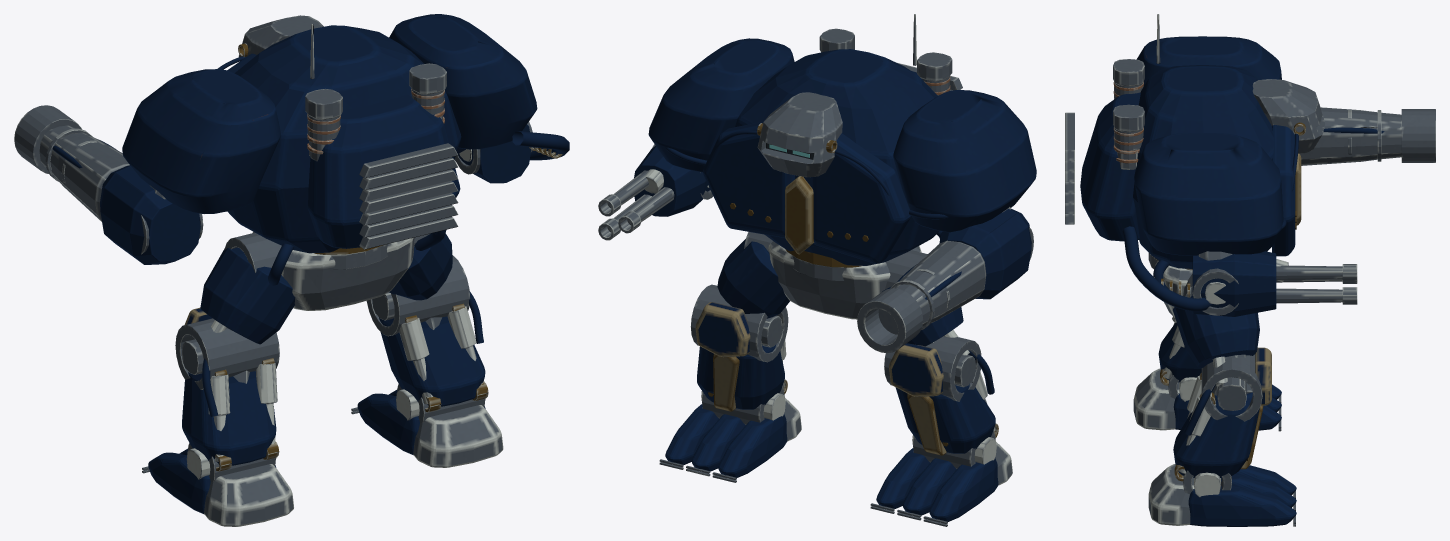
Rendered from heavy_walker.glb.
The picture shows the model from 3 angles, left to right: view 1: azimuth 30°, elevation 25°; view 2: azimuth 150°, elevation 25°; view 3: azimuth 270°, elevation 25°; orthographic projection. The views are drawn at different scales.
Parts seen in each view (by area): view 1: GT_heavy_walker; view 2: GT_heavy_walker; view 3: GT_heavy_walker.
Boxes of the visible parts, bbox=[...] form: GT_heavy_walker: bbox=[14, 14, 569, 526]; GT_heavy_walker: bbox=[598, 14, 1036, 526]; GT_heavy_walker: bbox=[1065, 14, 1435, 526].
Size of the model in its own units: 3.43 by 3.78 by 2.98.
Materials: 1 (1 with a texture image).
